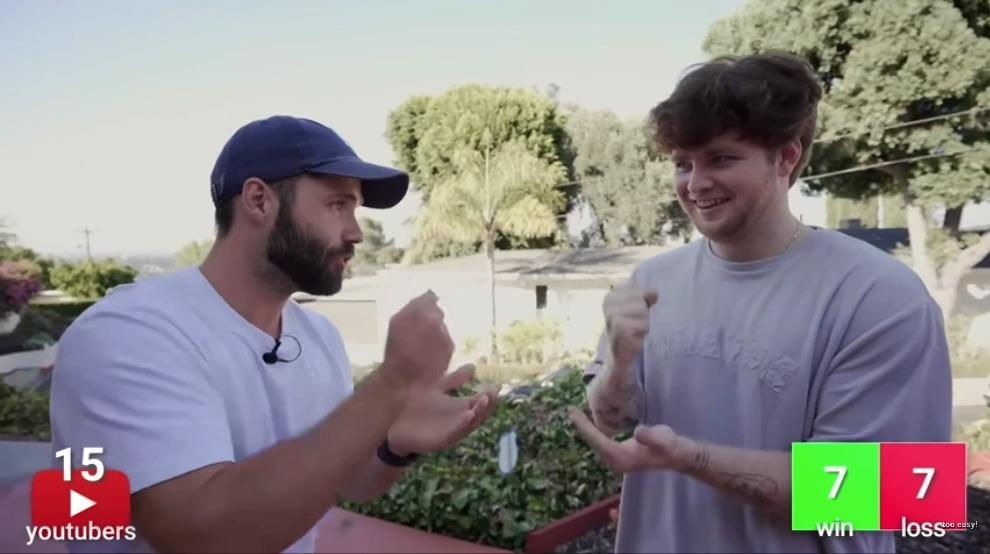Rock: (384, 289, 454, 394), (601, 281, 660, 354)
